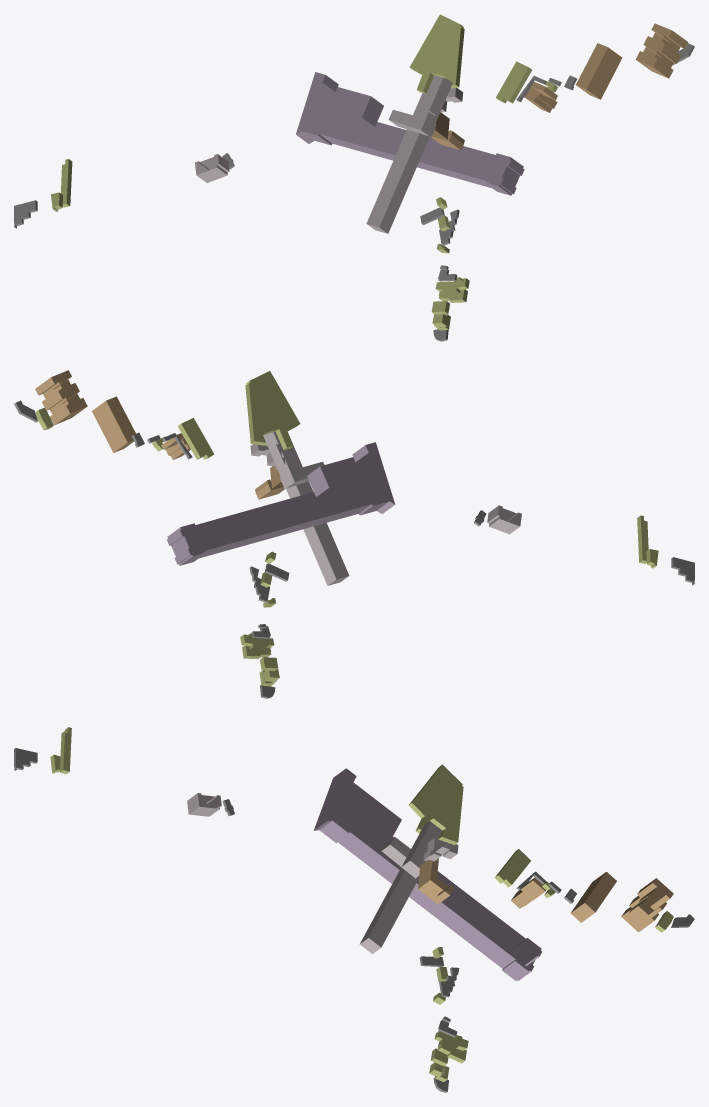
3 views of the same model, one above another, from view 1: azimuth 30°, elevation 25°; view 2: azimuth 150°, elevation 25°; view 3: azimuth 330°, elevation 25° (orthographic).
Parts seen in each view (by area): view 1: 0_1_0; view 2: 0_1_0; view 3: 0_1_0.
Part boxes in pixels (bbox=[...]): 0_1_0: bbox=[14, 14, 694, 341]; 0_1_0: bbox=[14, 370, 694, 698]; 0_1_0: bbox=[14, 727, 694, 1092].
Size of the model in its own units: 658 by 302 by 51.41.
